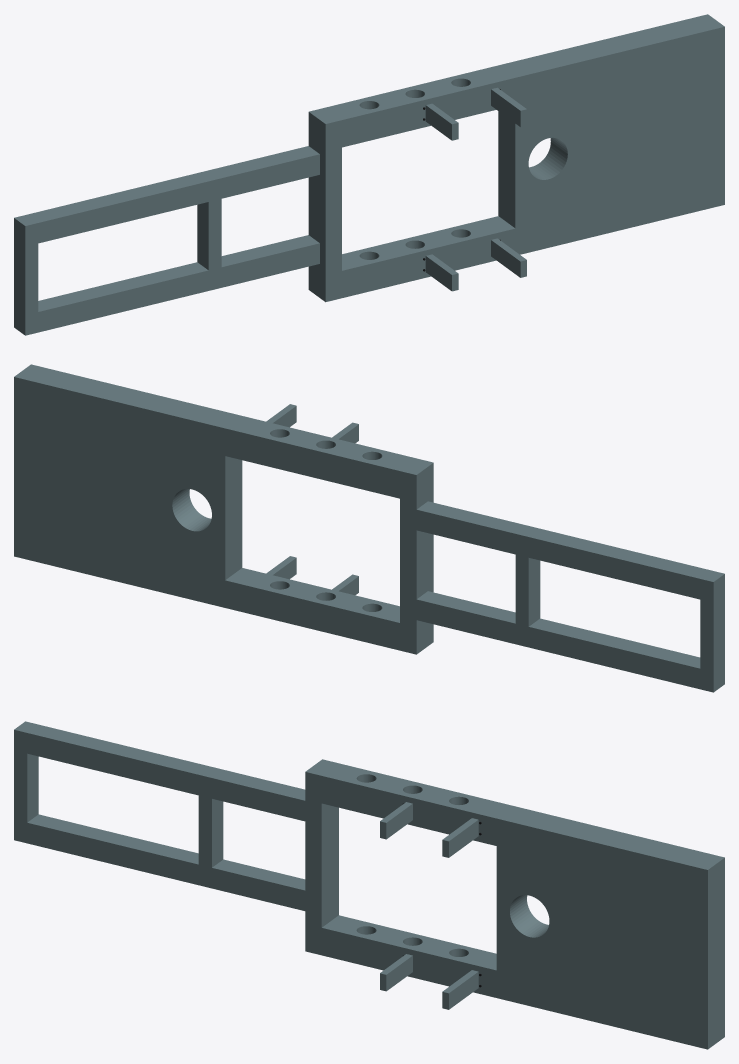
File: bedplate.glb
3 views of the same model, one above another, from view 1: azimuth 30°, elevation 25°; view 2: azimuth 150°, elevation 25°; view 3: azimuth 330°, elevation 25° (orthographic).
Visible parts, largest first — view 1: bedplate; view 2: bedplate; view 3: bedplate.
Boxes of the visible parts, x1=… form: bedplate: x1=14, y1=14, x2=724, y2=335; bedplate: x1=14, y1=364, x2=724, y2=692; bedplate: x1=14, y1=721, x2=724, y2=1049.
Size of the model in its own units: 10.6 by 2.6 by 1.23.
